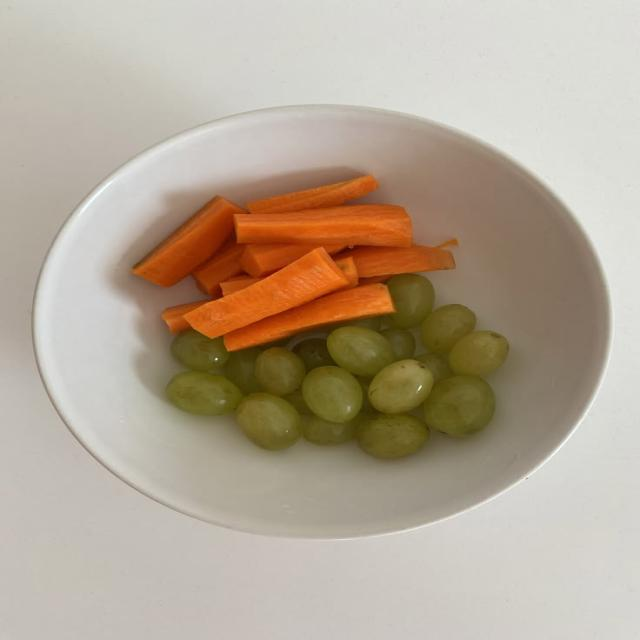carrot: (185, 248, 347, 337), (224, 284, 394, 350), (132, 196, 246, 286), (235, 205, 412, 246), (247, 175, 378, 213), (336, 246, 455, 277), (193, 238, 244, 297), (240, 244, 317, 277), (161, 301, 210, 333), (220, 276, 262, 296), (220, 276, 263, 295), (335, 257, 358, 289), (359, 275, 392, 285), (434, 239, 459, 249)
grapes: (424, 375, 494, 436), (237, 393, 301, 450), (368, 359, 432, 414), (303, 366, 362, 423), (166, 371, 242, 415), (328, 326, 394, 376), (356, 414, 429, 459), (421, 304, 476, 355), (383, 273, 434, 328), (449, 331, 509, 377), (254, 347, 306, 396), (172, 329, 229, 371), (224, 347, 263, 395), (303, 415, 361, 445), (292, 339, 335, 372), (414, 353, 452, 383), (380, 328, 415, 360)
